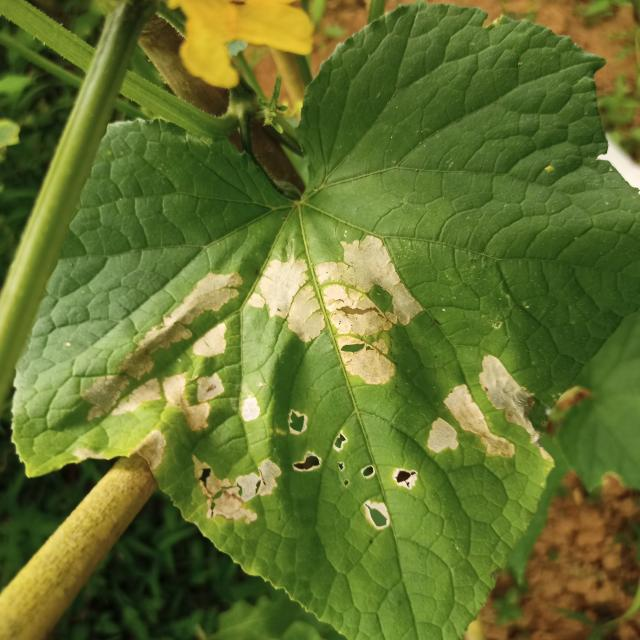disease_cucumber: (86, 235, 550, 528)
